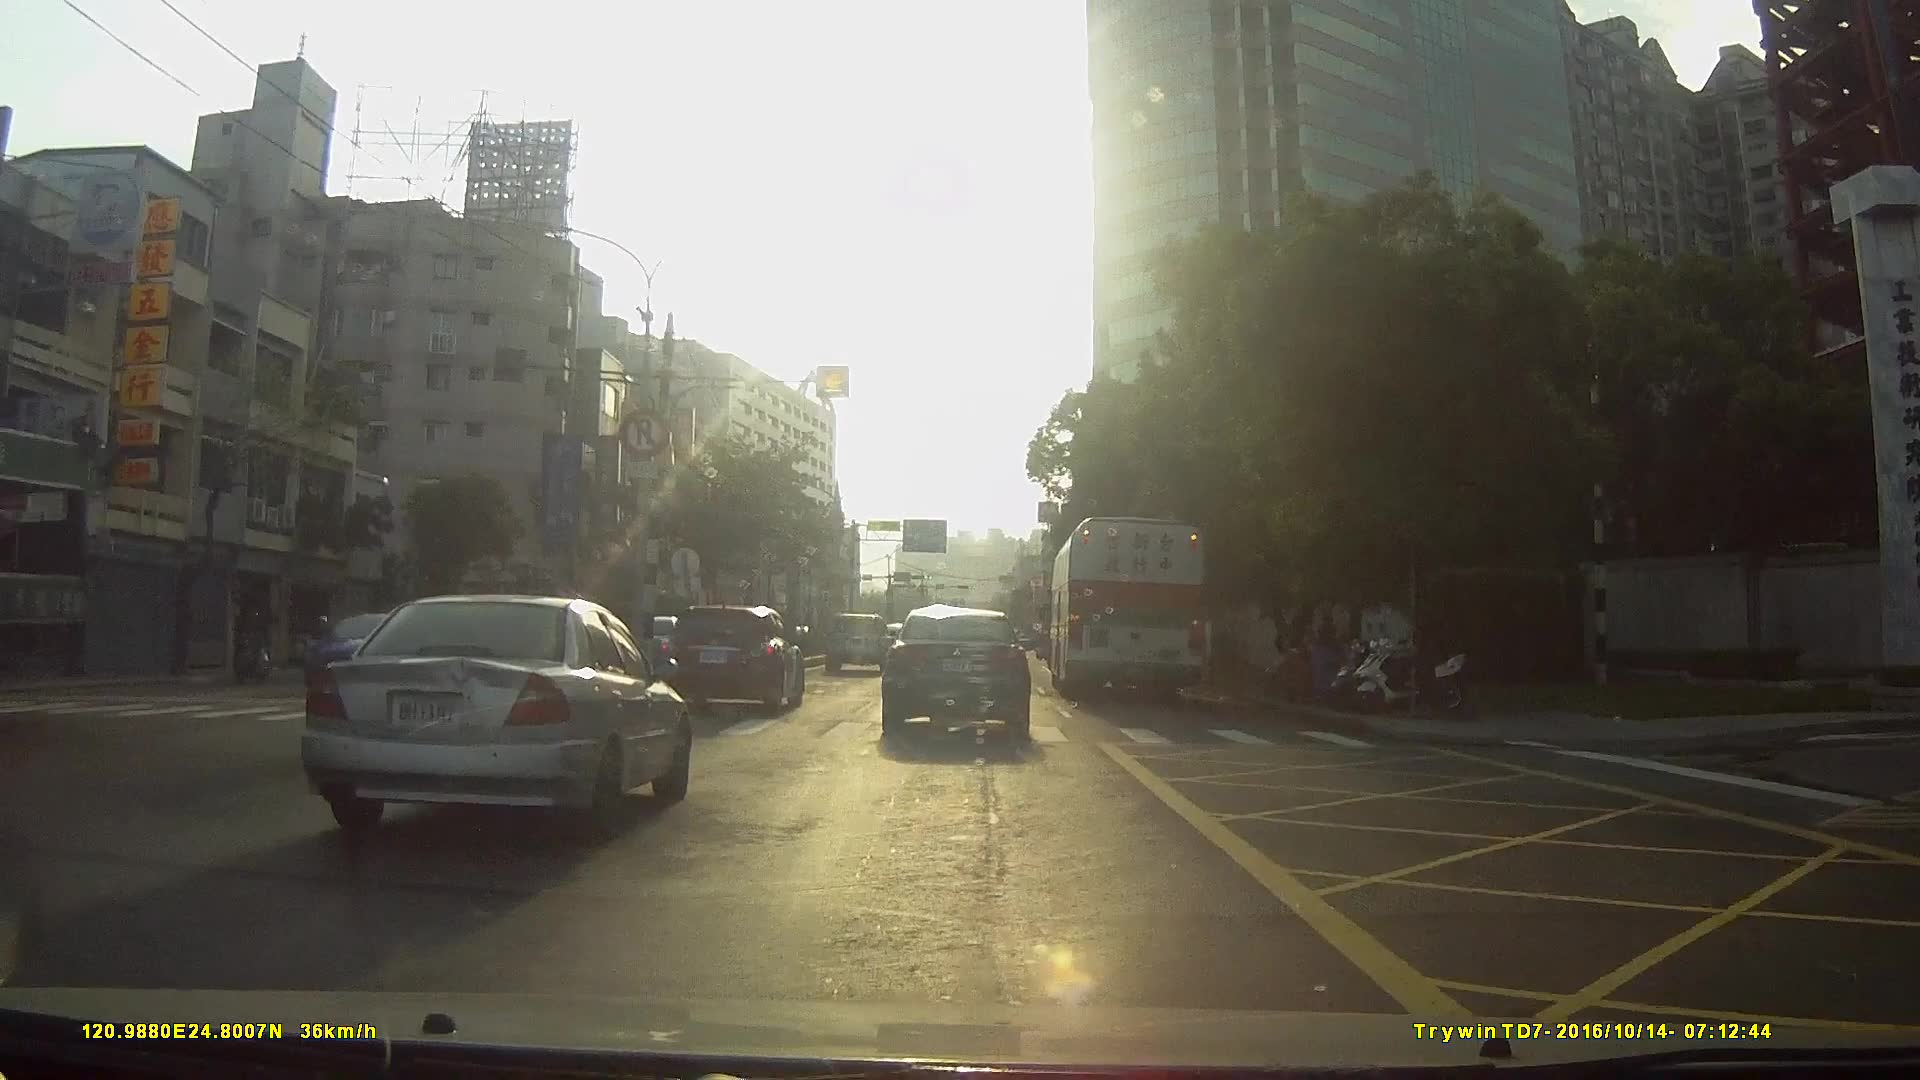rider: (234, 609, 276, 681)
vehicle: (291, 590, 689, 838), (1049, 511, 1210, 707), (881, 606, 1034, 745), (664, 604, 808, 717), (298, 606, 434, 710), (822, 613, 894, 678)
